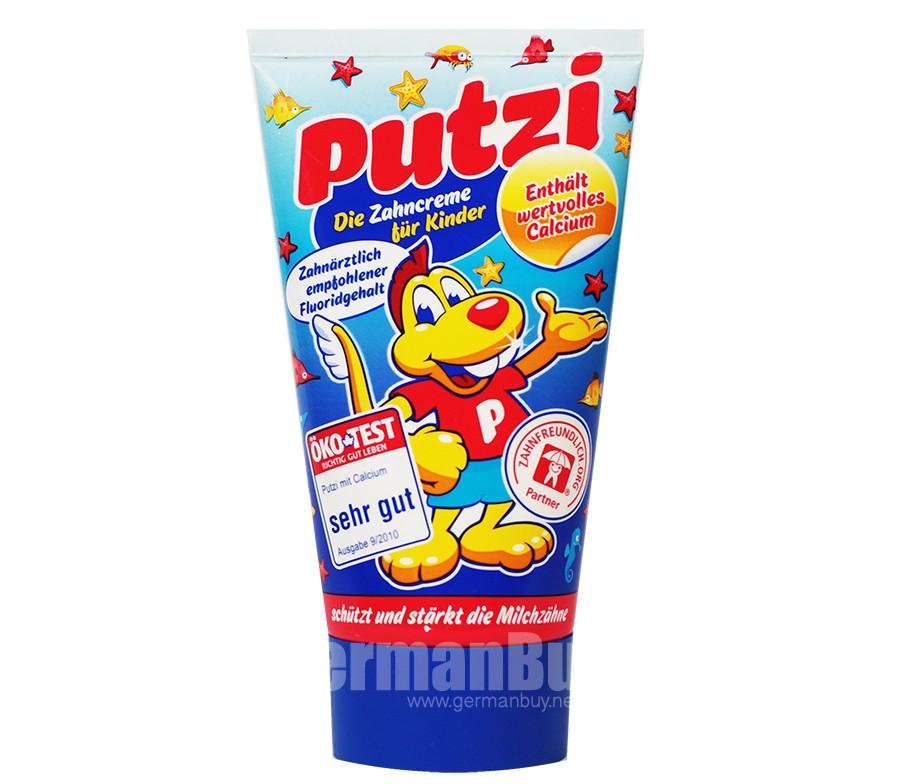toothpaste: (230, 0, 655, 784)
